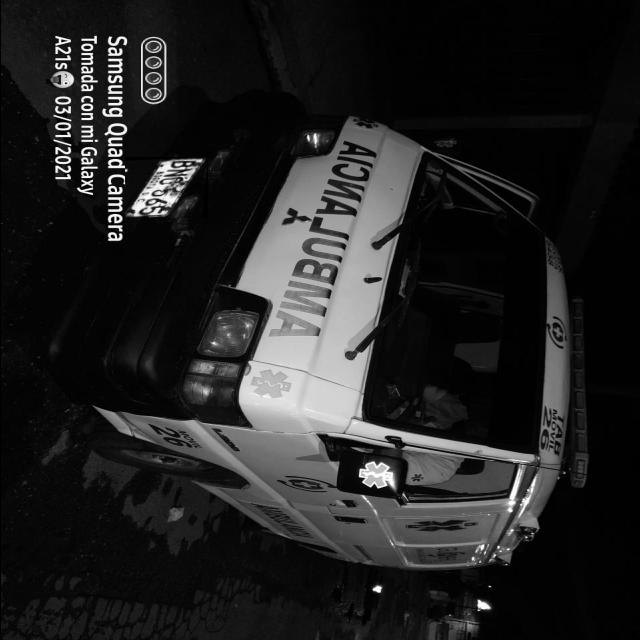plate: (124, 159, 206, 218)
